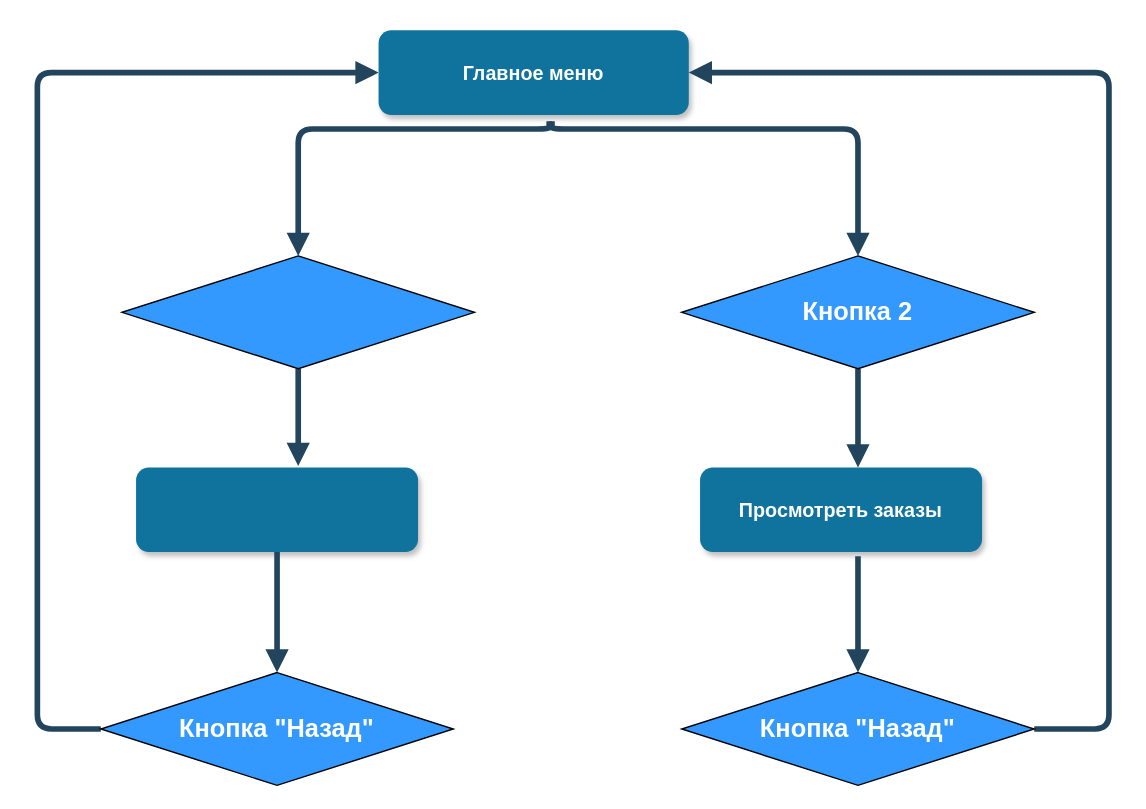
The diagram is 1146 pixels wide and 809 high, and some of its shapes have lost their labels. Each missing label, with the centre of its shape:
"Добавить лонгер" goes at (x=278, y=511).
"Кнопка 1" goes at (x=297, y=312).
